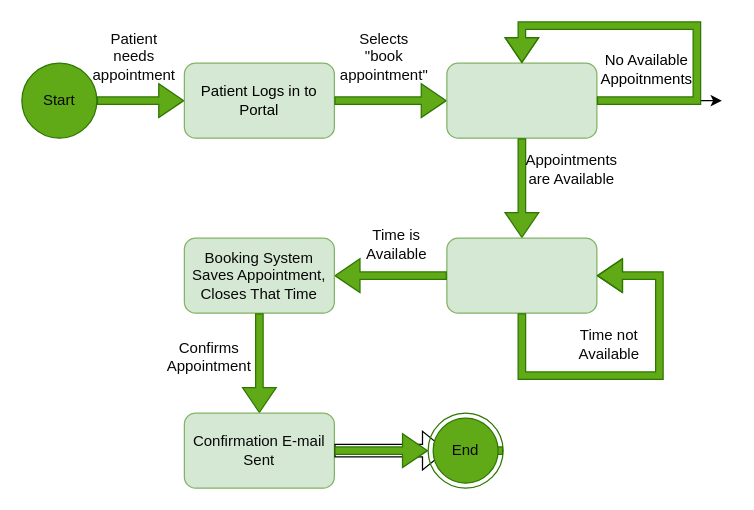
Image size: 754x510. Some labels were removed from this diagram. Each missing label, with the centre of its shape:
"Patient Selects Appointment Time" goes at (x=521, y=275).
"Patient Selects Date for Appointment" goes at (x=521, y=100).
